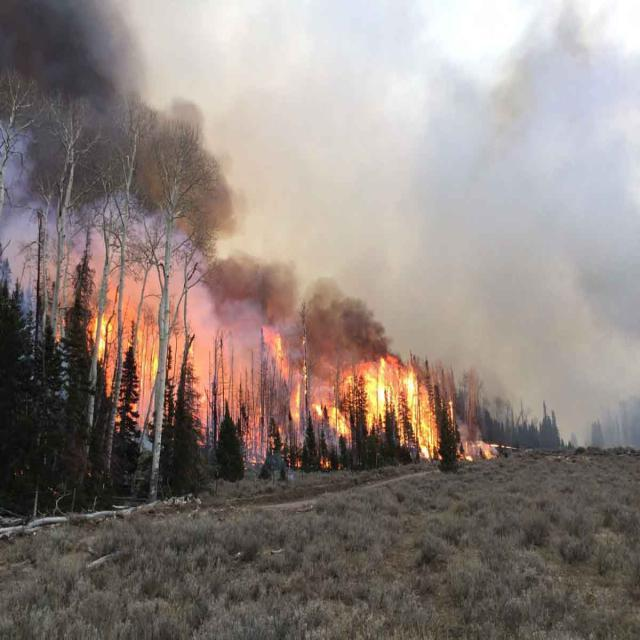Fire: (95, 308, 456, 462)
Smoke: (0, 0, 622, 404)
